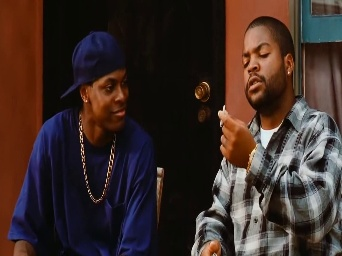smoke: (220, 103, 225, 128)
